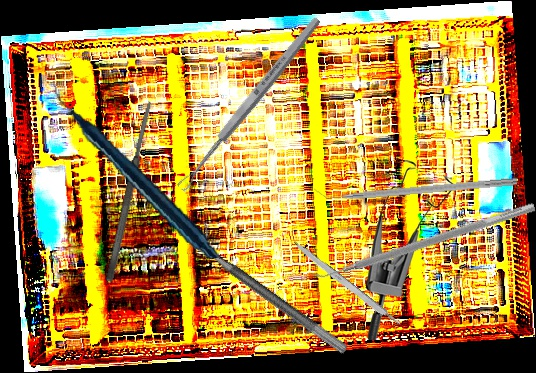Chopper: (313, 167, 518, 203)
Fixation Ring: (182, 216, 359, 357)
Handpiece: (51, 64, 222, 278)
Scalpel Handle: (290, 239, 403, 330)
Spatula Surgical: (307, 192, 536, 288), (103, 99, 156, 283)
Speculum: (366, 160, 454, 340)
Surgical Spoon: (174, 14, 324, 194)
